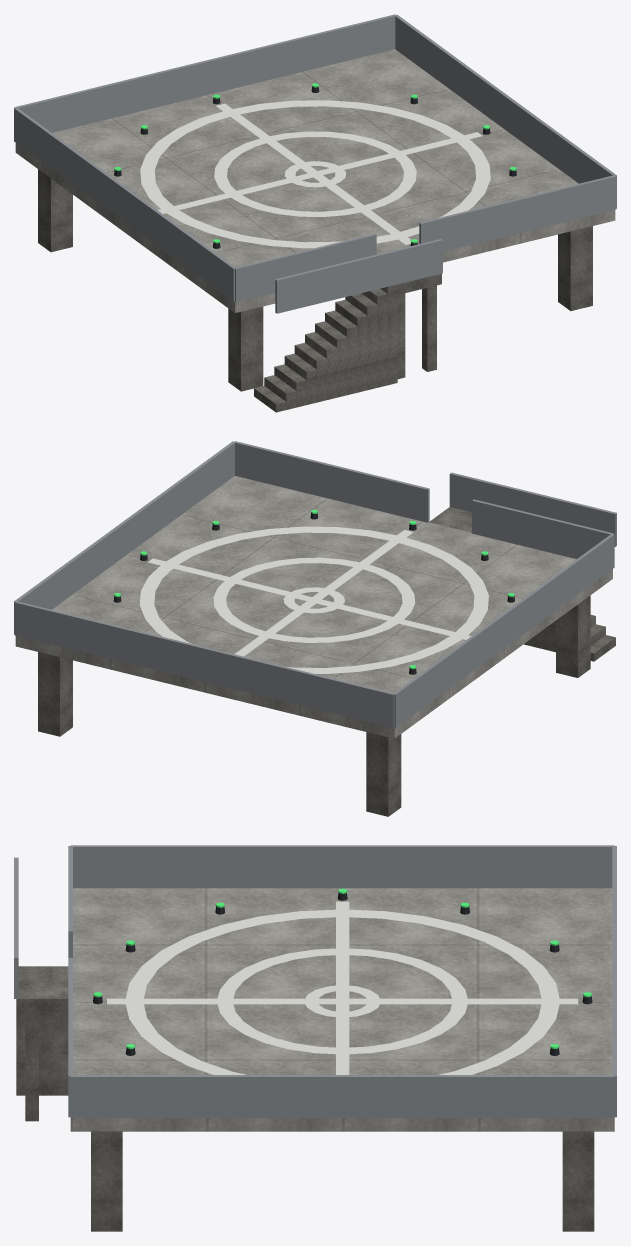
The model's file is let_heliport.glb.
3 renders of one model, top to bottom at view 1: azimuth 30°, elevation 25°; view 2: azimuth 150°, elevation 25°; view 3: azimuth 270°, elevation 25°, orthographic. The views are drawn at different scales.
Parts seen in each view (by area): view 1: dum; view 2: dum; view 3: dum.
Part boxes in pixels (x1=…): dum: x1=14, y1=14, x2=616, y2=412; dum: x1=14, y1=441, x2=616, y2=816; dum: x1=14, y1=845, x2=616, y2=1231.
Bounding box in the file's own units: 12.1 × 4 × 13.3.
Materials: 1 (1 with a texture image).
